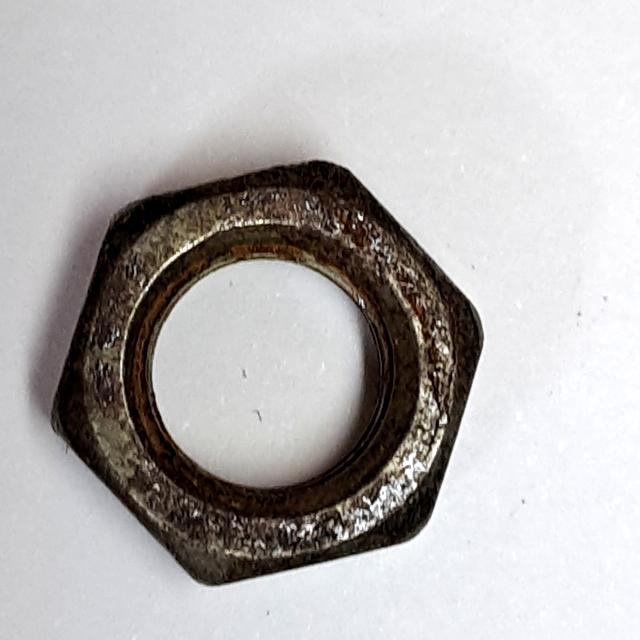Rust: (38, 149, 491, 600)
